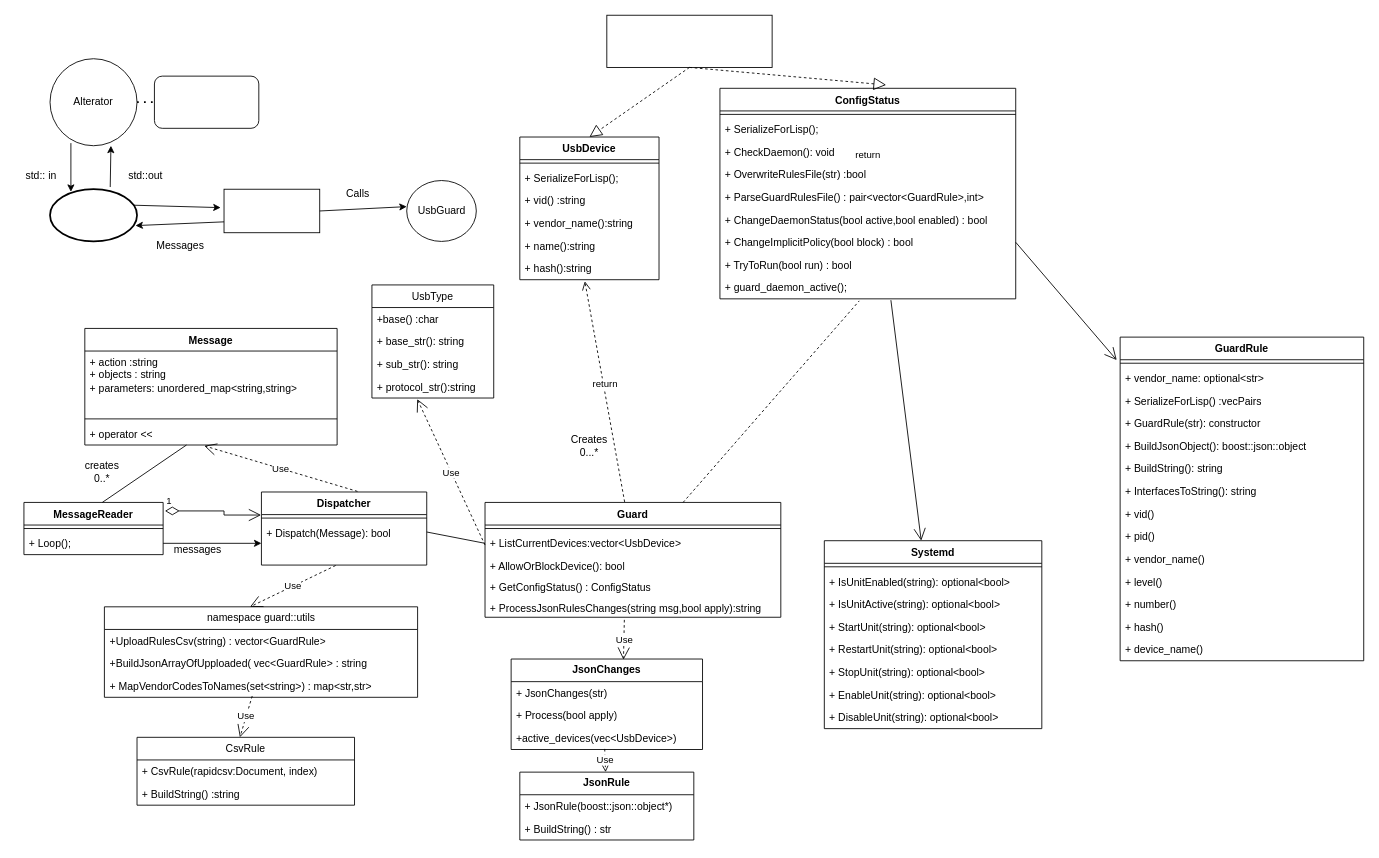
Some shapes in this 1379 by 858 pixel diagram are drawn without their labels. Each missing label, with the centre of its shape:
<<Interface>> SerializableForLisp<Impl> + SerializeForLisp(): vec<str>: the point at 689,40
Lisp Gui: the point at 206,101
Message Dispatcher: the point at 271,210
Message loop: the point at 93,215
